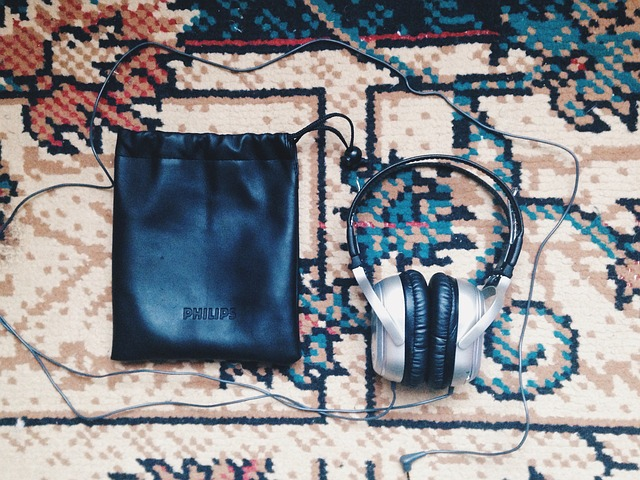headphones: (347, 154, 524, 389)
